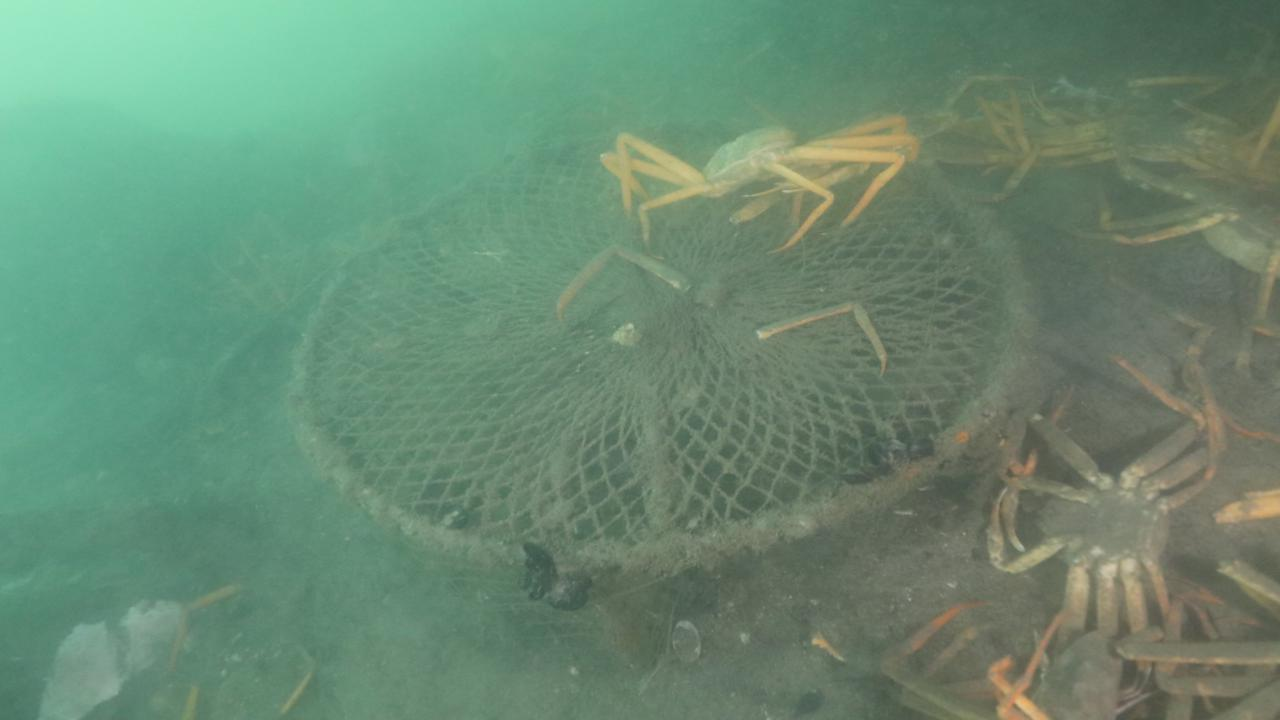circular fish trap: (281, 123, 1039, 656)
